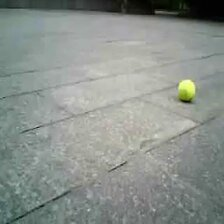tennis: (178, 81, 195, 100)
